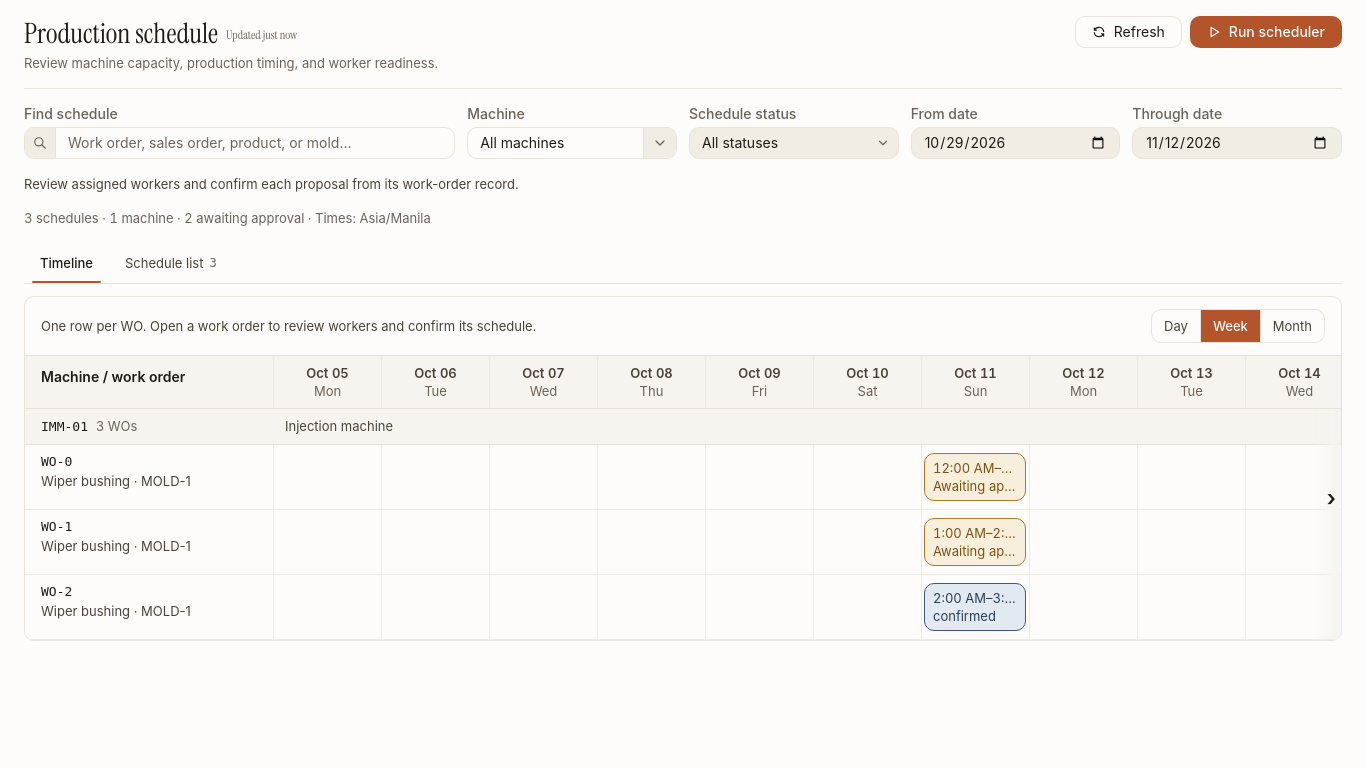
Test: ProductionSchedulePage › runs scheduling after review without confirming a work order
What coordinates should you click on to do the following:
click the button "Run scheduler"
I would click on:
 (1266, 32)
Its box is x1=1190 y1=16 x2=1342 y2=48.
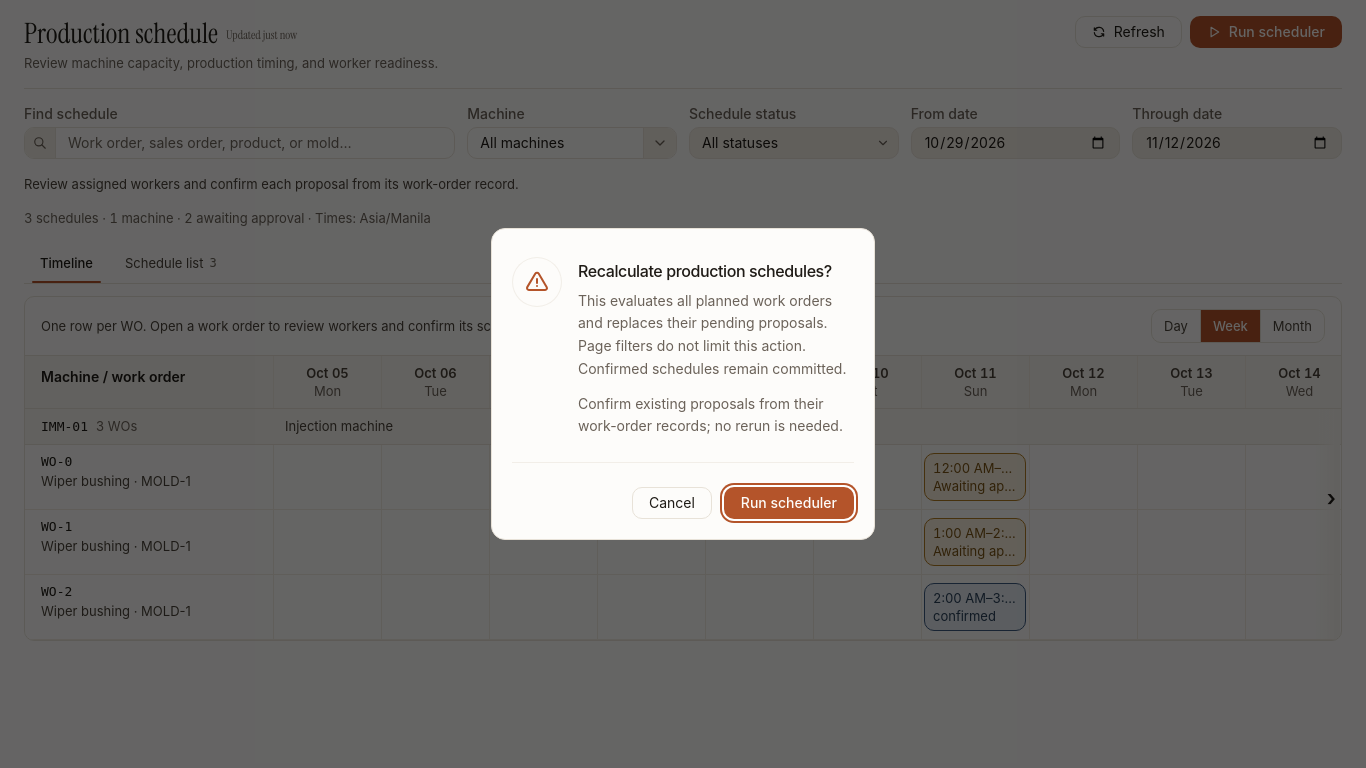
Expected: the dialog shows "all planned work orders", x1=578 y1=292 x2=846 y2=377
Expected: the dialog shows "work-order records", x1=578 y1=395 x2=843 y2=434
What coordinates should you click on to do the following:
click the button "Run scheduler"
I would click on:
 (789, 503)
Its box is x1=724 y1=487 x2=854 y2=519.
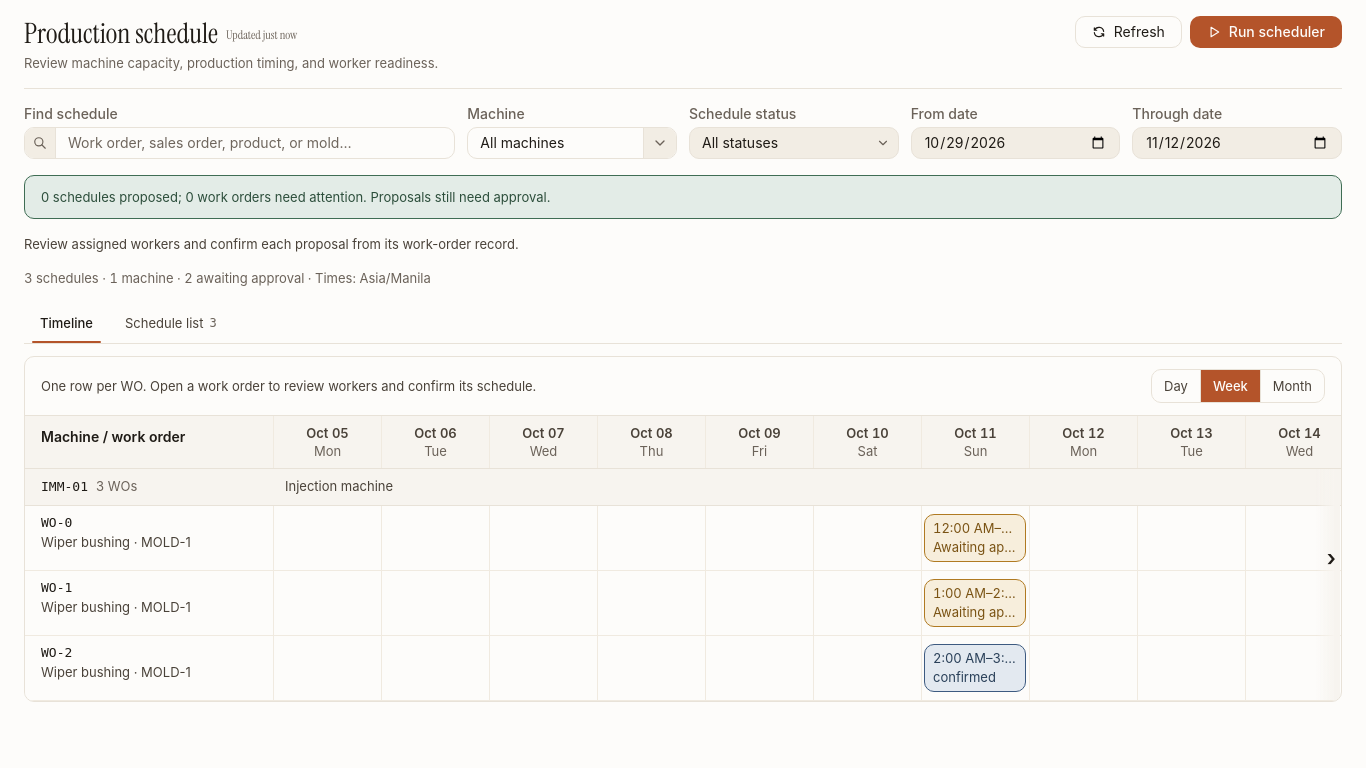
Expected: the dialog is gone
